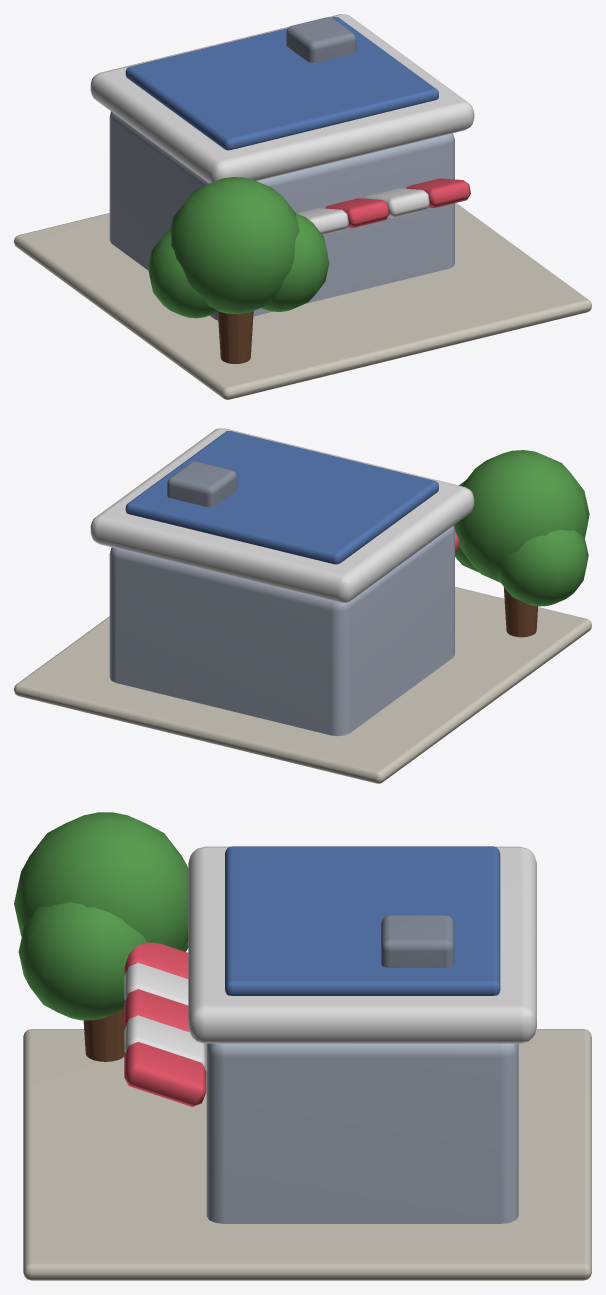
The picture shows the model from 3 angles, top to bottom: view 1: azimuth 30°, elevation 25°; view 2: azimuth 150°, elevation 25°; view 3: azimuth 270°, elevation 25°; orthographic projection. The views are drawn at different scales.
Parts seen in each view (by area): view 1: Cube; view 2: Cube; view 3: Cube.
Part boxes in pixels (x1,y1,x2,y2): Cube: [14, 14, 591, 399]; Cube: [14, 428, 591, 783]; Cube: [14, 812, 591, 1280].
Size of the model in its own units: 0.6682 by 0.33 by 0.63.
